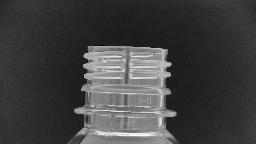No Cap: (70, 42, 180, 120)
